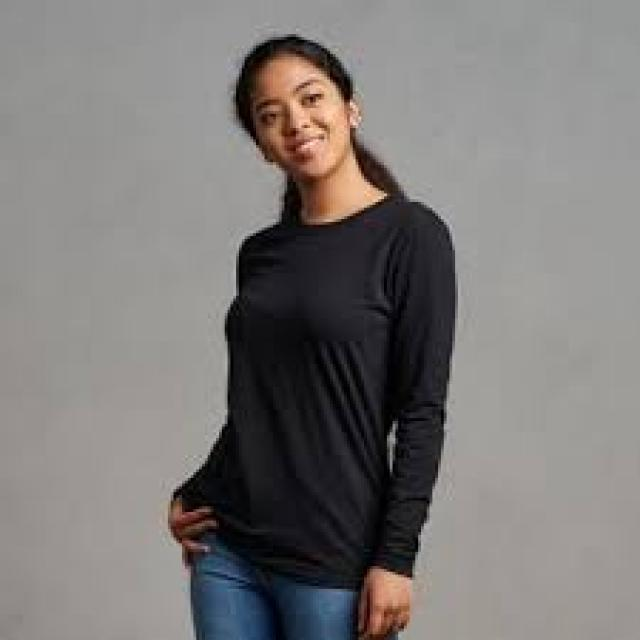plain: (202, 195, 462, 586)
